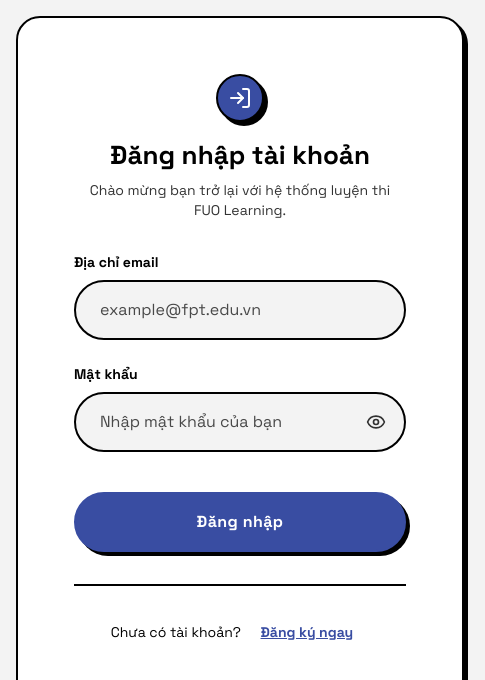
Test: Authentication Forms (LoginForm & RegisterForm) › LoginForm › displays an accessible alert when submitted with empty fields
This screenshot has width=485, height=680.
Click the button "Đăng nhập": coordinates (240, 522) [74,492,406,552]
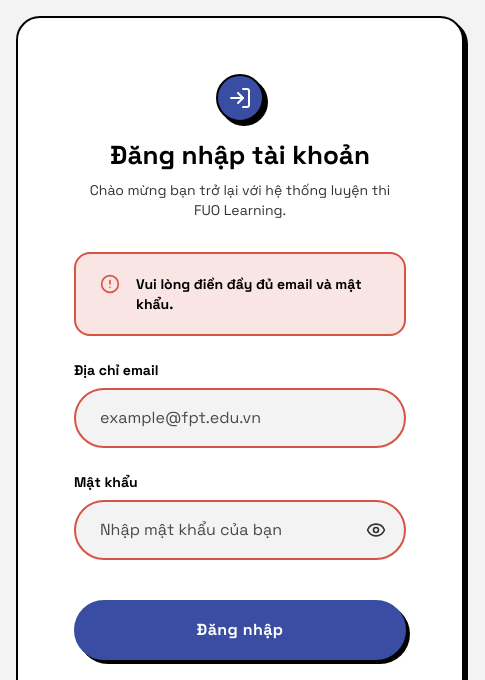
Now the message reads "Vui lòng điền đầy đủ email và mật khẩu.", box [136,275,362,313]
